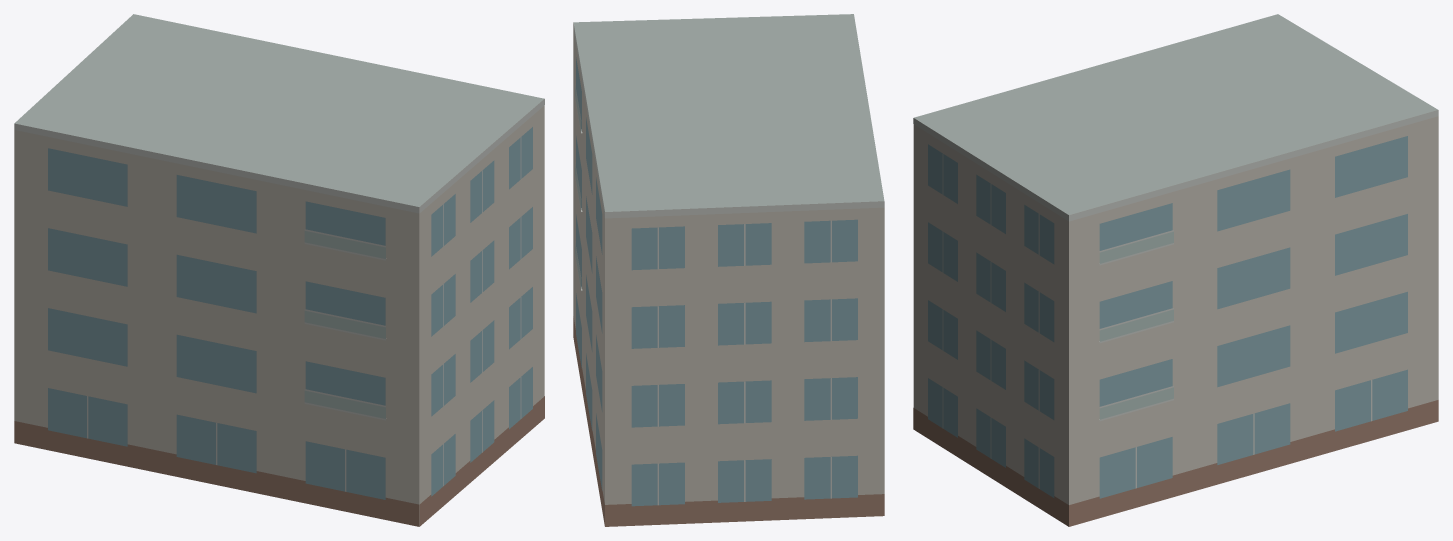
File: survey-upis-32631153.glb
3 views of the same model, side by side, from view 1: azimuth 30°, elevation 25°; view 2: azimuth 150°, elevation 25°; view 3: azimuth 270°, elevation 25° (orthographic). The views are drawn at different scales.
Visible parts, largest first — view 1: survey-upis-32631153.tmp; view 2: survey-upis-32631153.tmp; view 3: survey-upis-32631153.tmp.
Boxes of the visible parts, x1,y1,x2,y2 form: survey-upis-32631153.tmp: (14, 14, 544, 526); survey-upis-32631153.tmp: (573, 14, 884, 526); survey-upis-32631153.tmp: (913, 14, 1438, 526).
Size of the model in its own units: 16.77 by 12.1 by 18.48.
